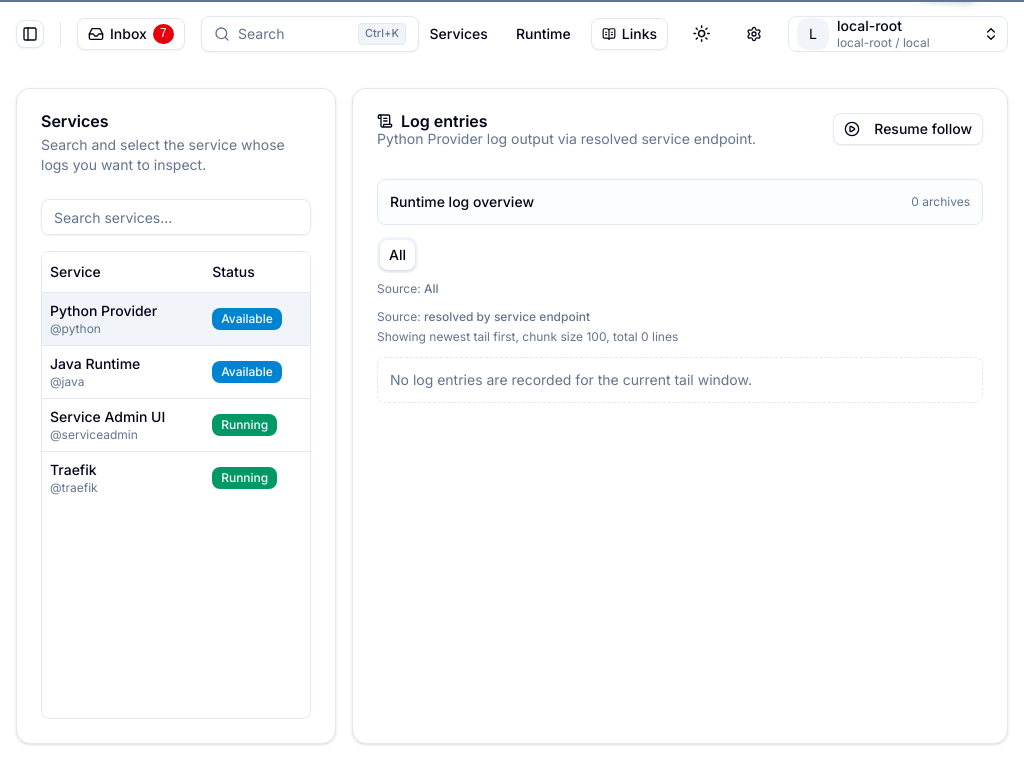
logs page operator states › keeps service selection usable when loaded from an encoded provider service URL
The width and height of the screenshot is (1024, 768).
Check: the text "No log entries are recorded for the current tail window." is shown, box [377,357,983,403]
Step 1. Click the text "Service Admin UI" → (108, 416), box [50,408,165,424]
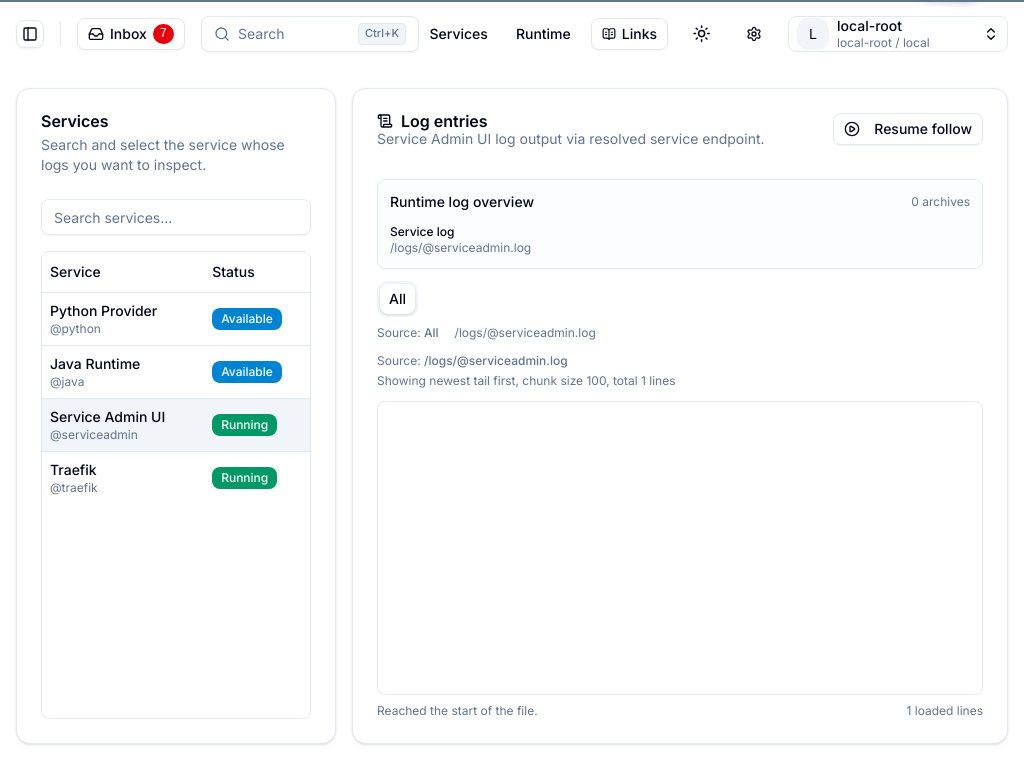
Check: the text "@serviceadmin" is shown, box [50,426,138,442]
Step 2. Click the text "Python Provider" → (104, 310), box [50,302,157,318]
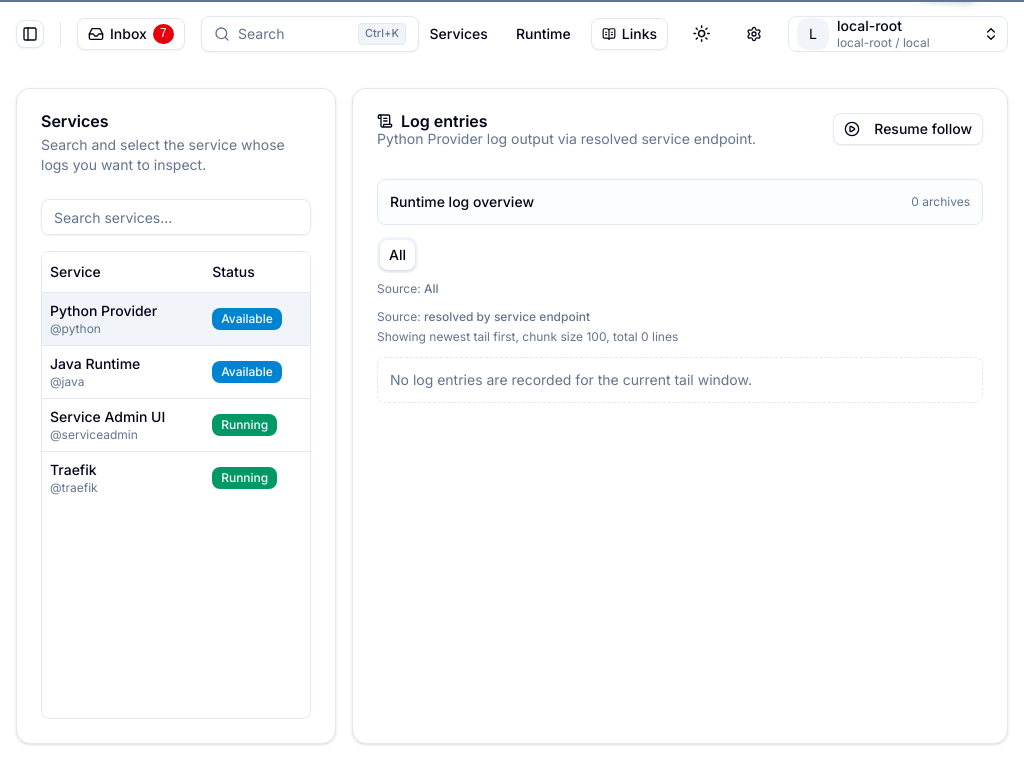
Check: the text "No log entries are recorded for the current tail window." is shown, box [377,357,983,403]
